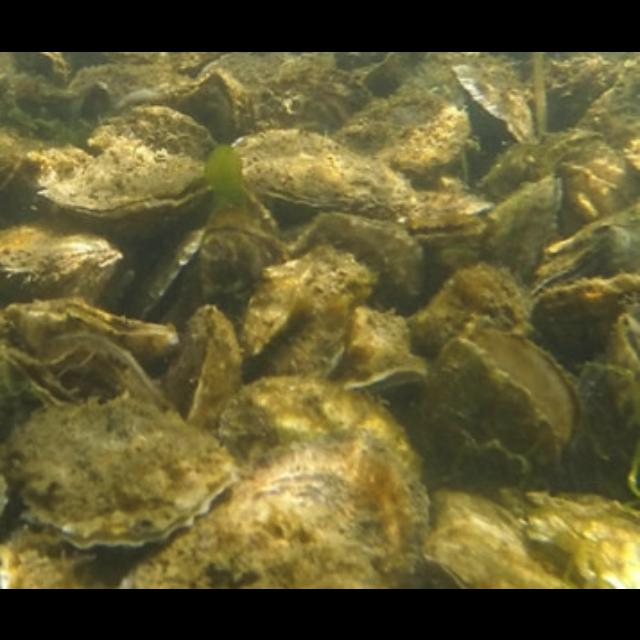Oyster-Closed: (117, 374, 428, 587), (253, 246, 379, 379), (234, 127, 413, 210), (197, 219, 303, 350), (294, 210, 426, 314), (10, 295, 179, 367), (333, 86, 469, 171), (0, 216, 122, 305), (411, 263, 532, 351), (165, 306, 245, 428), (536, 275, 638, 362), (486, 175, 564, 279), (454, 61, 537, 144), (245, 260, 309, 354), (352, 305, 413, 349), (599, 314, 638, 373), (409, 213, 485, 243)
Oyster-Open: (1, 397, 241, 549), (405, 322, 582, 493), (44, 105, 218, 231), (334, 337, 428, 397), (10, 351, 81, 404), (532, 247, 608, 296)
